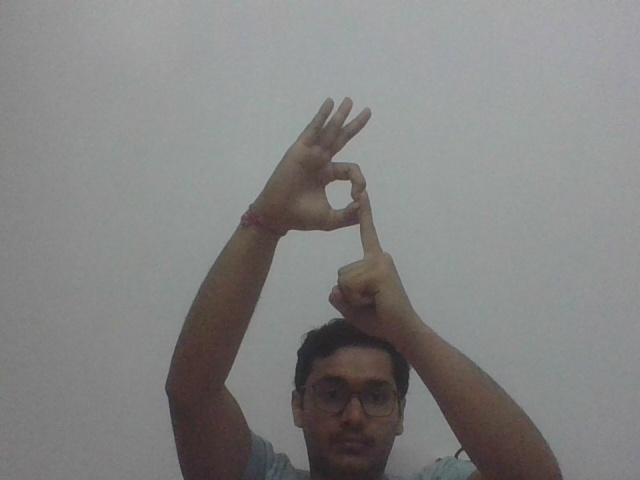P: (290, 95, 400, 282)
